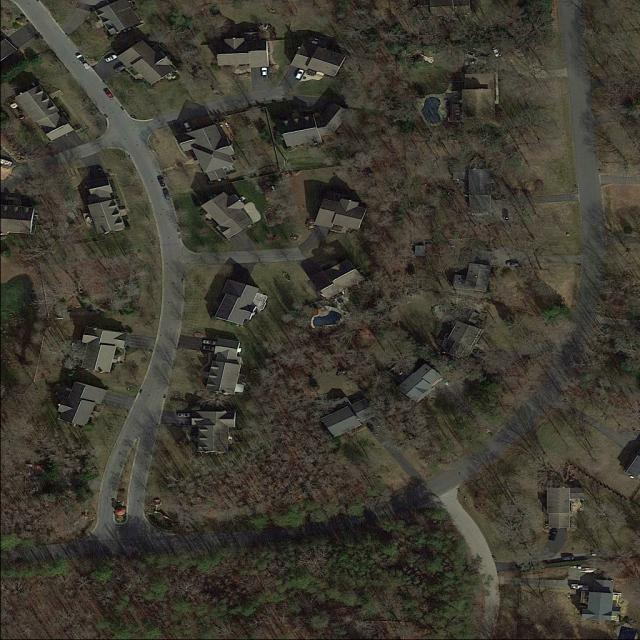small-vehicle: (75, 54, 91, 71), (366, 421, 379, 437), (102, 87, 116, 101), (113, 64, 127, 74), (104, 54, 118, 64), (371, 416, 381, 428), (506, 261, 521, 269), (549, 529, 558, 541), (183, 122, 193, 132), (157, 177, 166, 188), (162, 189, 171, 200), (295, 69, 304, 80), (493, 194, 507, 201), (492, 48, 501, 58), (203, 340, 217, 346), (203, 346, 216, 352), (178, 412, 191, 418), (464, 59, 477, 65), (502, 208, 509, 219), (562, 556, 574, 562), (261, 68, 268, 78)
